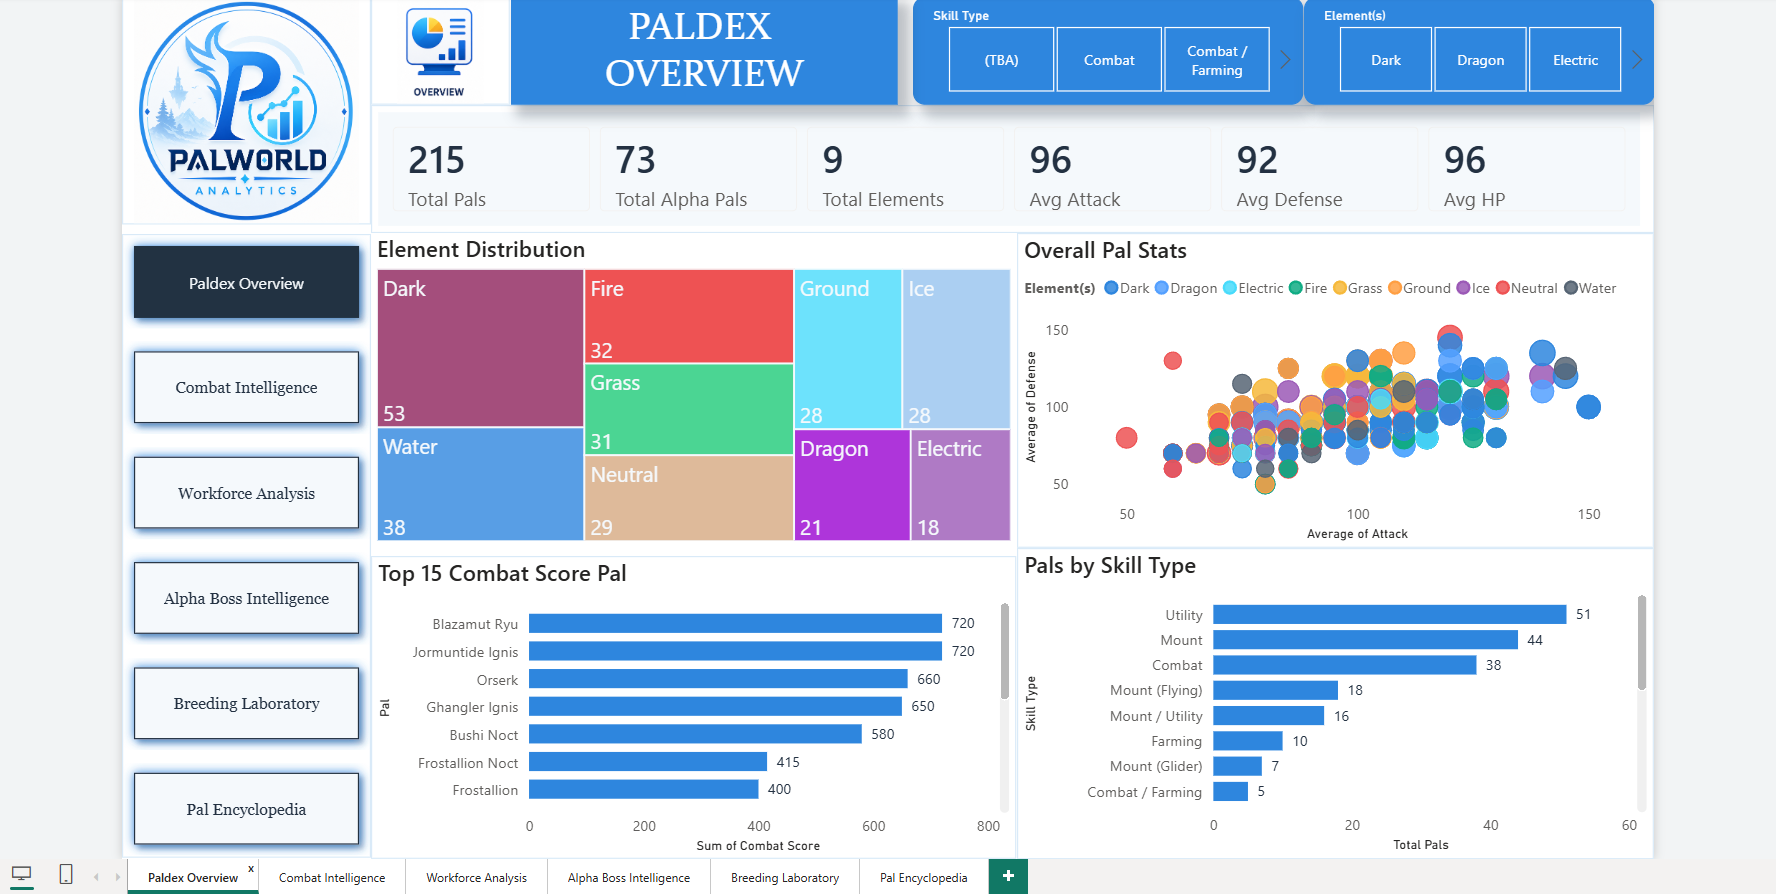

The page's visual inventory and layout, read from the dashboard file:
{"tool":"powerbi","page":{"name":"Paldex Overview ","canvas":[1280,720],"ordinal":0},"visuals":[{"type":"cardVisual","fields":{"Data":["Paldex.Total Pals","Paldex.Total Alpha Pals","Paldex.Total Elements","Paldex.Avg Attack","Paldex.Avg Defense","Paldex.Avg HP"]},"box":[208.3,90.4,1071.7,107.1],"z":1000},{"type":"treemap","title":"Element Distribution","fields":{"Group":["Paldex.Element(s)"],"Values":["Paldex.Total Pals"]},"box":[208.3,197.5,539.3,262.3],"z":2000},{"type":"clusteredBarChart","title":"Top 15 Combat Score Pal","fields":{"Category":["Paldex.Pal"],"Y":["Sum(Paldex.Combat Score)"]},"box":[208.3,466.6,539.3,253.4],"z":3000},{"type":"scatterChart","title":"Overall Pal Stats","fields":{"X":["Avg(Paldex.Attack)"],"Y":["Avg(Paldex.Defense)"],"Size":["Avg(Paldex.H.P)"],"Category":["Paldex.Pal"],"Series":["Paldex.Element(s)"]},"box":[748,197.4,532,262.6],"z":4000},{"type":"clusteredBarChart","title":"Pals by Skill Type","fields":{"Category":["Partner Skills.Skill Type"],"Y":["Paldex.Total Pals"]},"box":[748,460.1,532,259.7],"z":5000},{"type":"slicer","fields":{"Values":["Partner Skills.Skill Type"]},"box":[660.6,0,326.3,90.4],"z":6000},{"type":"slicer","fields":{"Values":["Paldex.Element(s)"]},"box":[986.9,0,293.5,90.4],"z":7000},{"type":"textbox","box":[324.5,0,322.8,90.4],"z":8000},{"type":"image","box":[0,0,208.4,189.8],"z":9000},{"type":"pageNavigator","box":[0,197.7,208.4,521.4],"z":10000},{"type":"image","box":[208.4,0,116.2,90.4],"z":10001}]}

Visuals, with their boxes on the page's 1280x720 design canvas (x1, y1, x2, y2). These are canvas units, not pixel positions in the 1776x894 screenshot, which may show the page scaled, cropped or inside an application window:
cardVisual - Paldex.Total Pals x Paldex.Total Alpha Pals: Rect(208, 90, 1280, 198)
"Element Distribution" treemap: Rect(208, 198, 748, 460)
"Top 15 Combat Score Pal" clusteredBarChart: Rect(208, 467, 748, 720)
"Overall Pal Stats" scatterChart: Rect(748, 197, 1280, 460)
"Pals by Skill Type" clusteredBarChart: Rect(748, 460, 1280, 720)
slicer - Partner Skills.Skill Type: Rect(661, 0, 987, 90)
slicer - Paldex.Element(s): Rect(987, 0, 1280, 90)
textbox: Rect(324, 0, 647, 90)
image: Rect(0, 0, 208, 190)
pageNavigator: Rect(0, 198, 208, 719)
image: Rect(208, 0, 325, 90)
